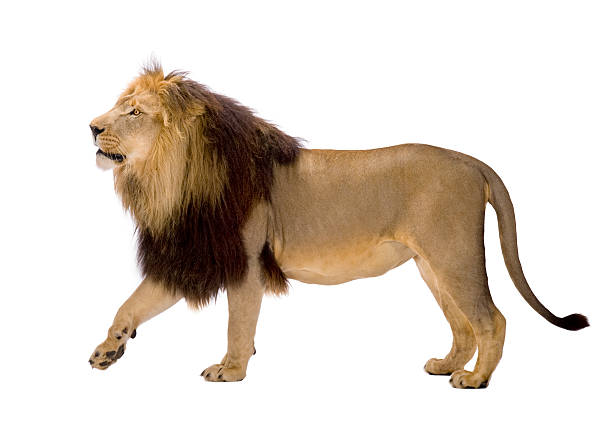lion: (60, 49, 287, 280)
